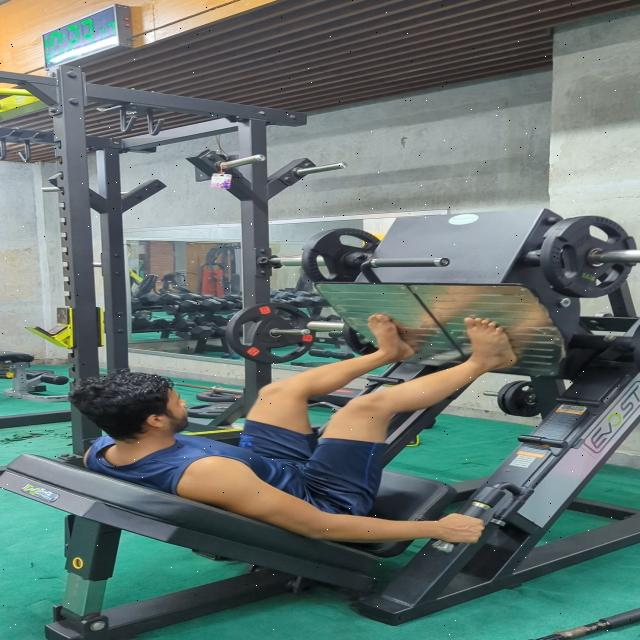Normal_LegPress: (53, 310, 551, 547)
